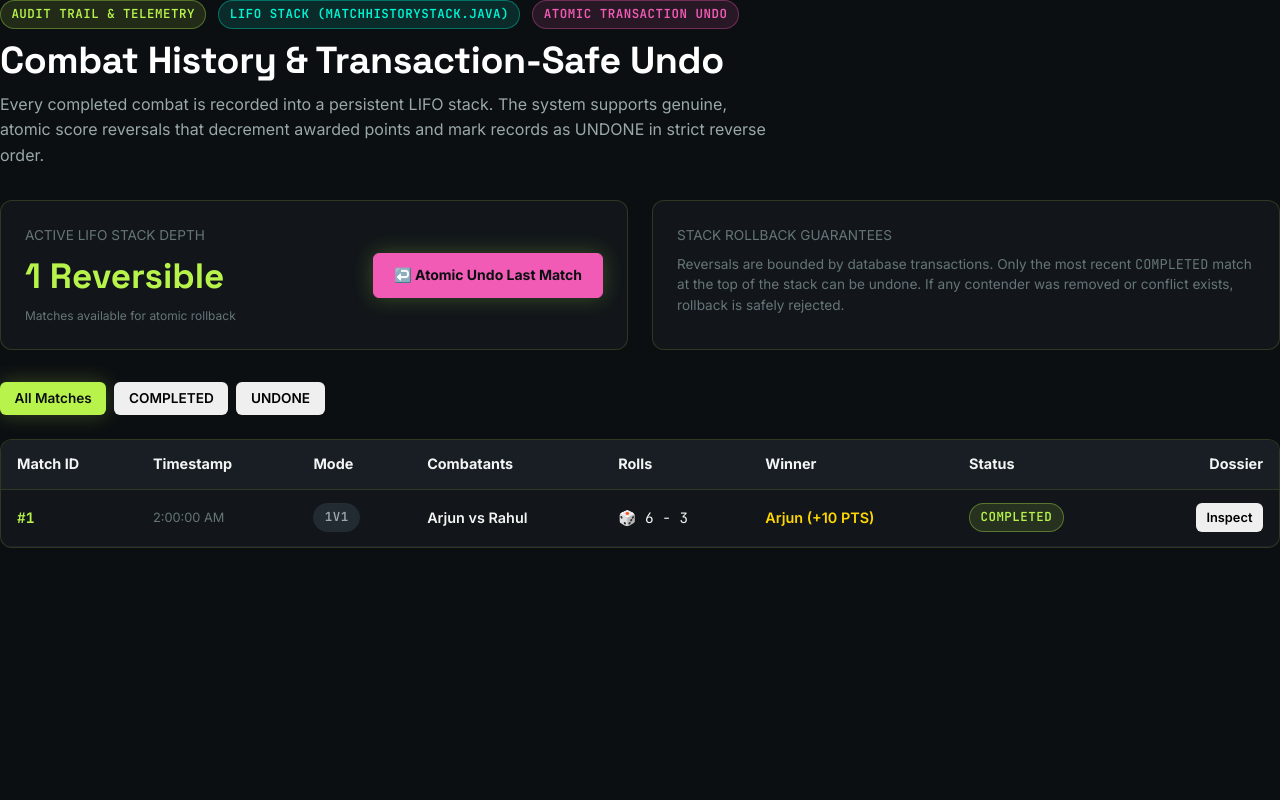
MatchHistoryView Component › renders LIFO stack depth and match entries
Check: the text "1 Reversible" is shown, box [25,250,236,303]
Check: the text "Arjun vs Rahul" is shown, box [411,489,602,546]
Clicking undo opens confirmation modal
Click the button "↩️ Atomic Undo Last Match".
click(488, 275)  # box [373,253,603,298]
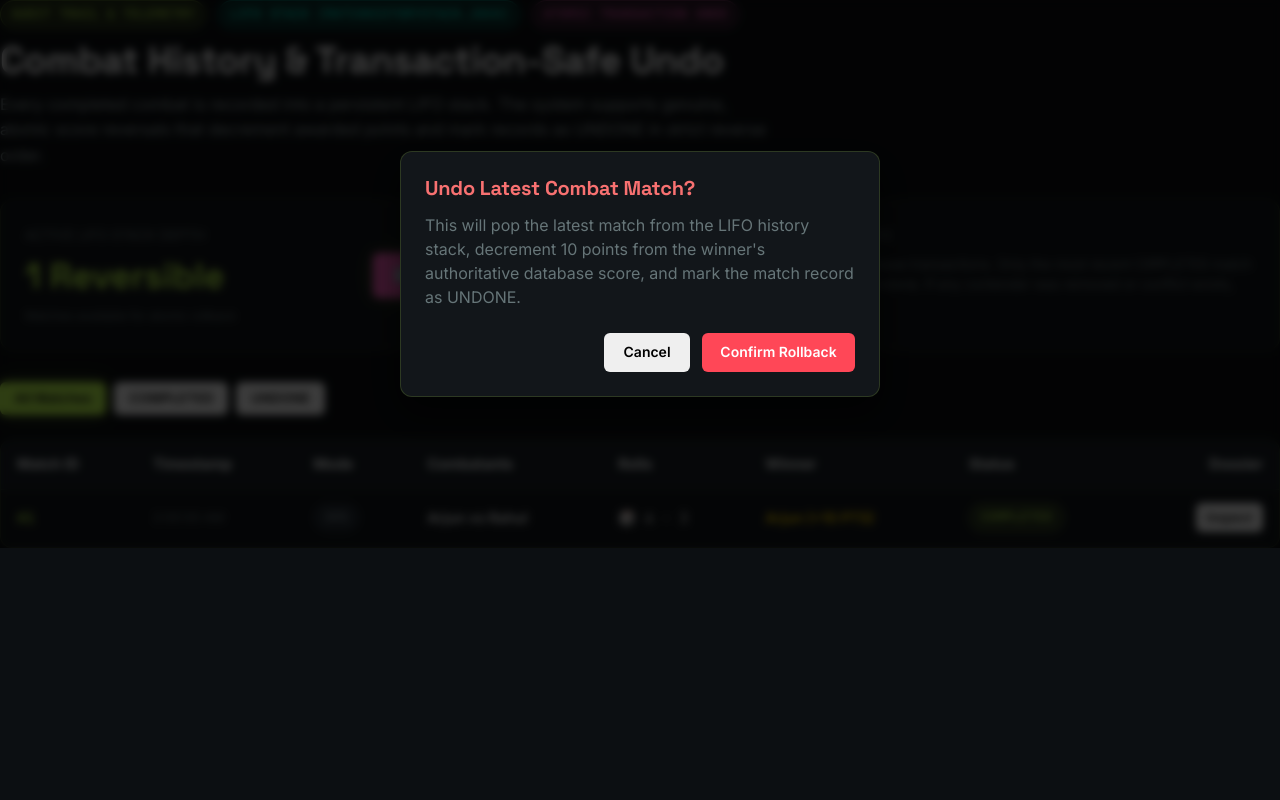
Check: the heading "Undo Latest Combat Match?" is shown, box [425,175,695,201]
